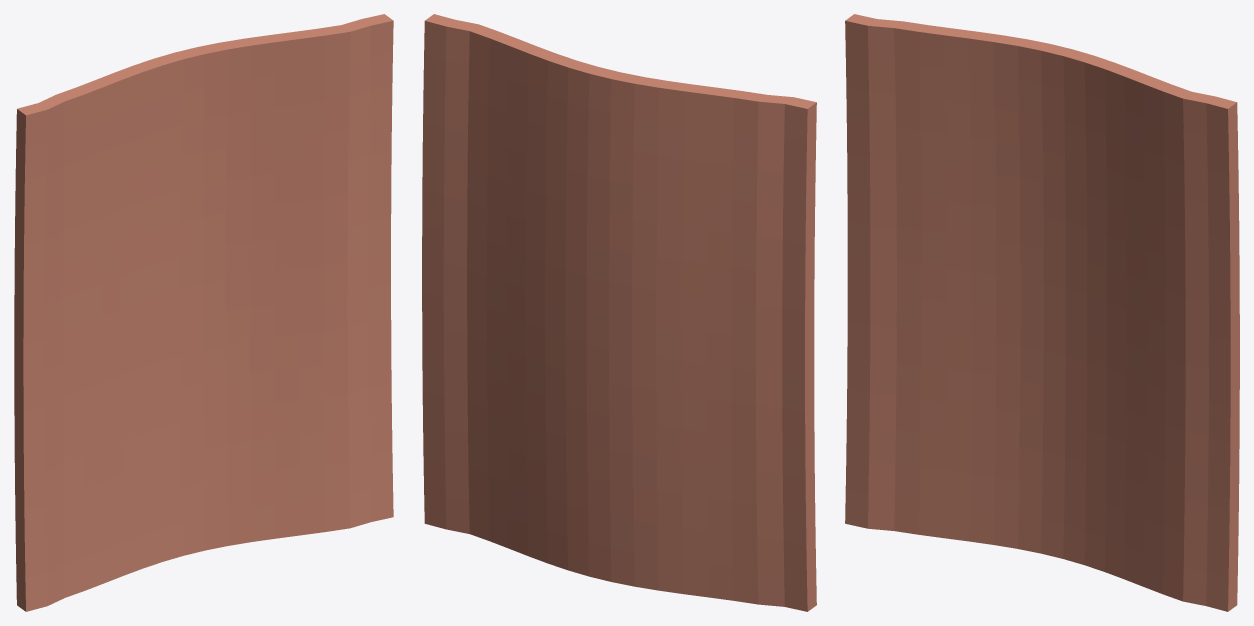
File: hohlfalzziegel.glb
The picture shows the model from 3 angles, left to right: view 1: azimuth 30°, elevation 25°; view 2: azimuth 150°, elevation 25°; view 3: azimuth 330°, elevation 25°; orthographic projection.
Parts seen in each view (by area): view 1: world; view 2: world; view 3: world.
Boxes of the visible parts, x1,y1,x2,y2 form: world: (14, 14, 393, 611); world: (422, 14, 816, 611); world: (845, 14, 1239, 611).
Size of the model in its own units: 0.33 by 0.42 by 0.0458.
